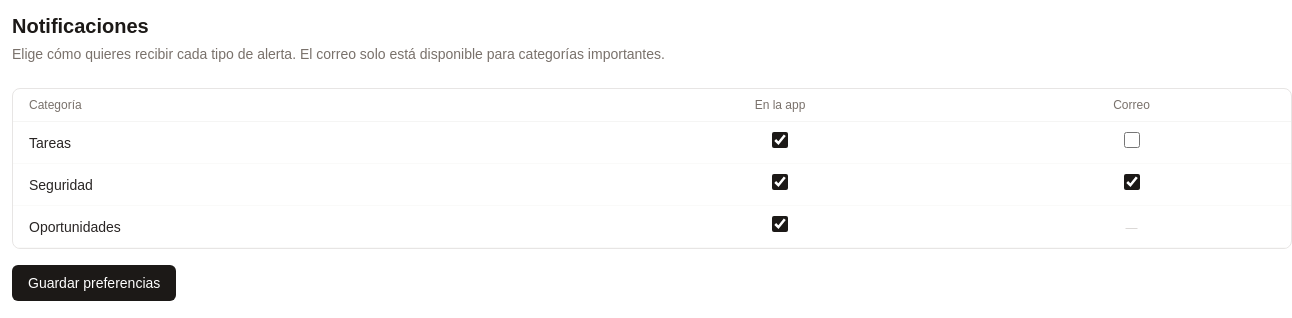
NotificationPreferencesPage › toggles and saves the edited preferences
Expected: the text "Tareas" is shown, [13,122,588,164]
Click the checkbox named "Correo: Tareas". click: point(1132, 140)
box: [1124,132,1140,148]
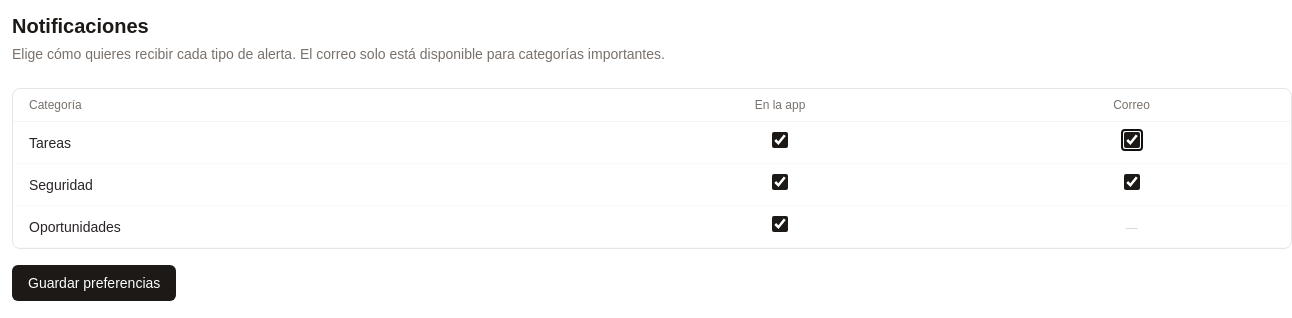
Click the button "Guardar preferencias". click: point(94, 283)
box: [12,265,176,301]
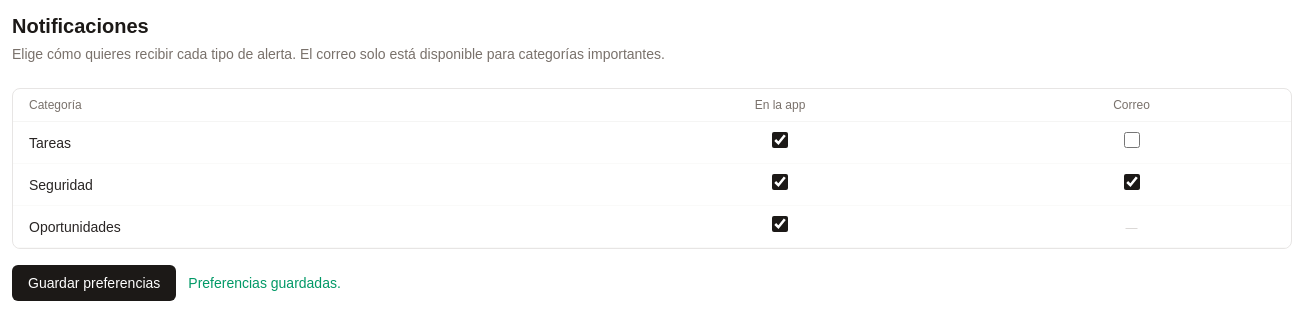
Now the text "Preferencias guardadas." is shown, box [188,273,341,293]
